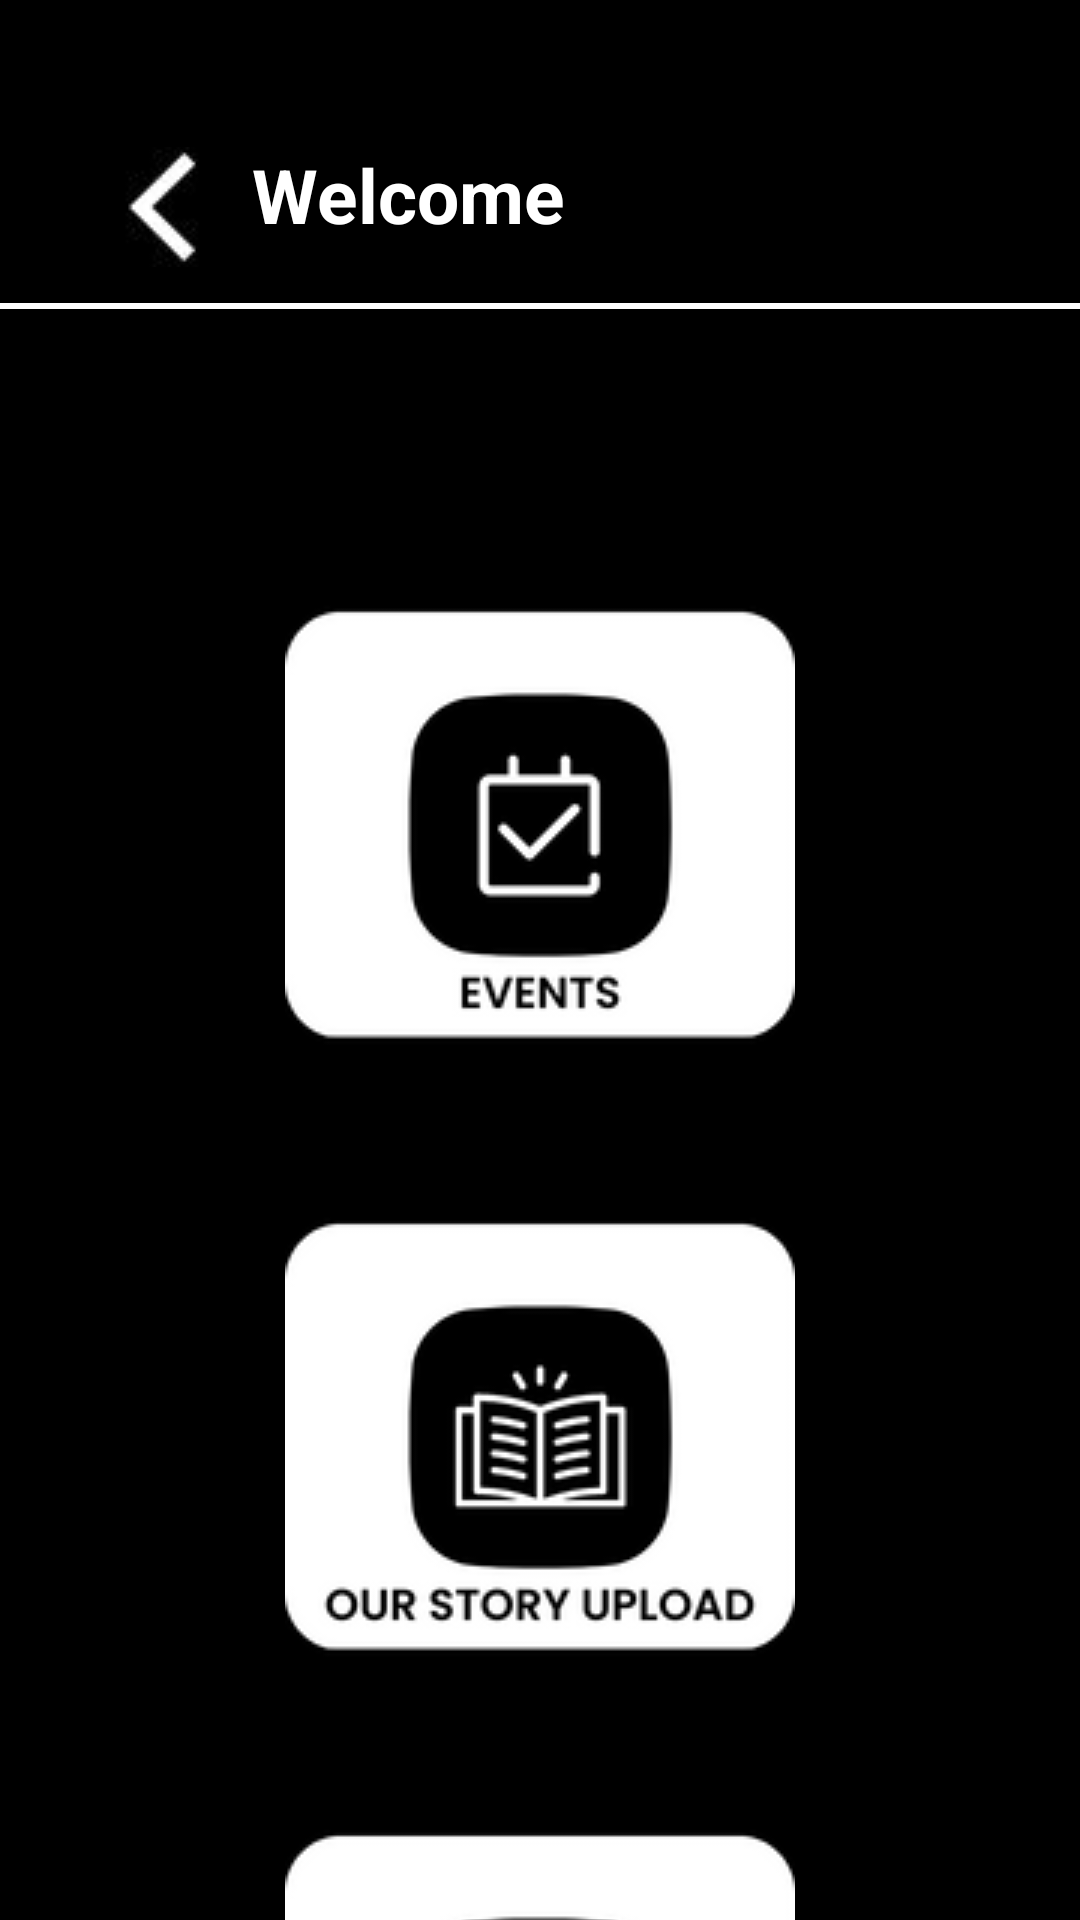

Icon bounding boxes for this 1080*1920 phone screenshot, format detection(x1, y1, x2, y2):
backk: detection(128, 152, 196, 262)
